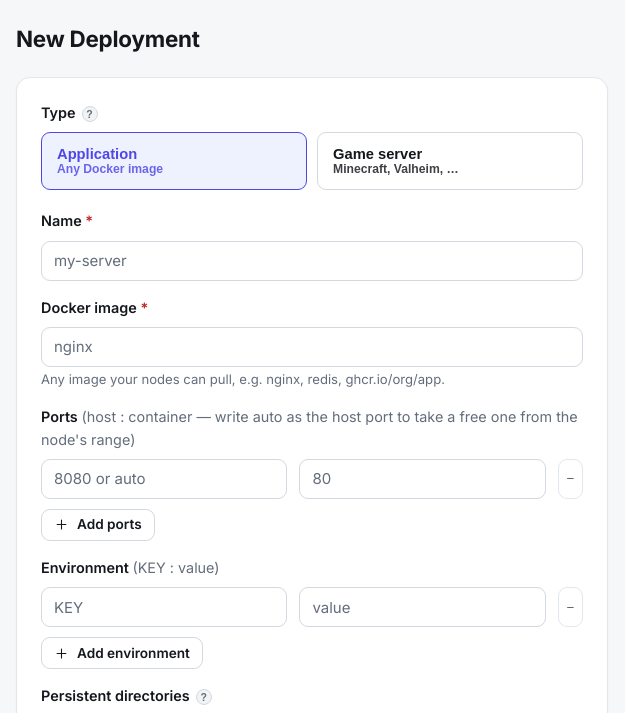
Test case: NewDeployment › derives the heap from the limit instead of colliding with it
The width and height of the screenshot is (625, 713).
What coordinates should you click on to do the following:
click the button "Game server Minecraft, Valheim, …"
I would click on:
 (450, 161)
Its box is [317,132,583,190].
(page scrolled)
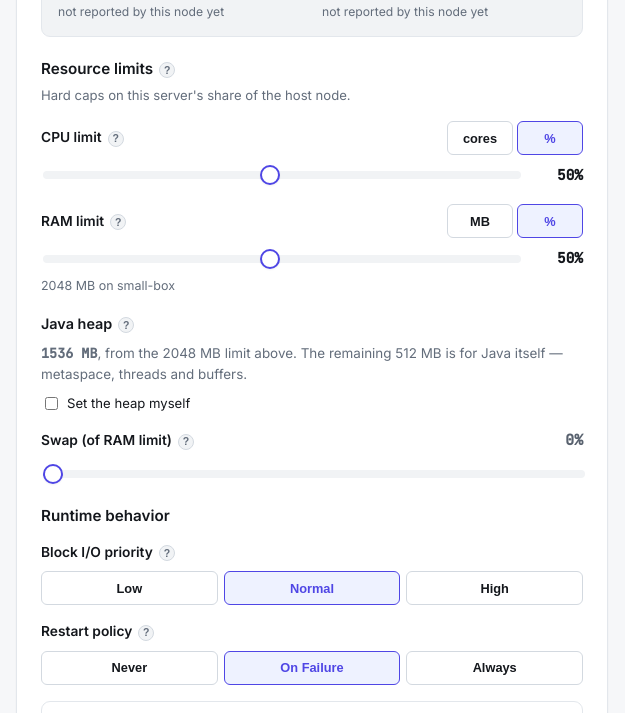
Expected: the text "1536 MB" is shown, [41,344,97,362]
